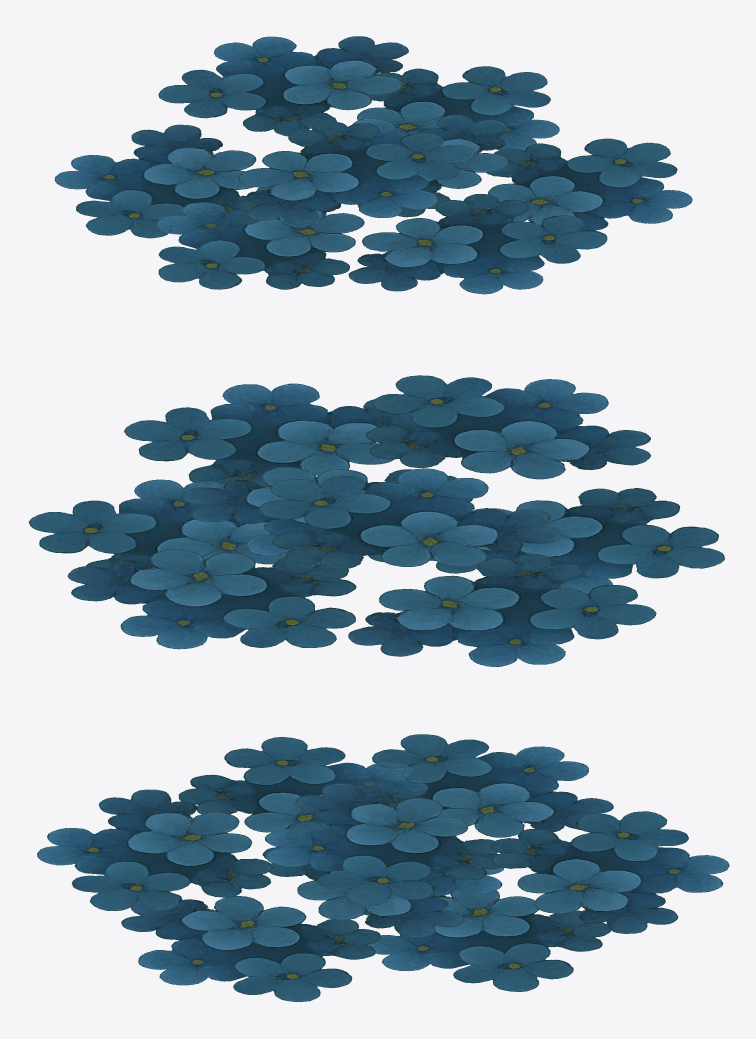
The model's file is plant03_(BlueFlower)GR.fbx.
3 renders of one model, top to bottom at view 1: azimuth 30°, elevation 25°; view 2: azimuth 150°, elevation 25°; view 3: azimuth 270°, elevation 25°, orthographic. The views are drawn at different scales.
Parts seen in each view (by area): view 1: Plane002; view 2: Plane002; view 3: Plane002.
Part boxes in pixels (x1=…): Plane002: x1=54, y1=36, x2=692, y2=294; Plane002: x1=29, y1=375, x2=724, y2=666; Plane002: x1=37, y1=734, x2=729, y2=1001.
Size of the model in its own units: 60.79 by 1.21 by 59.19.
Materials: 1 (1 with a texture image).
